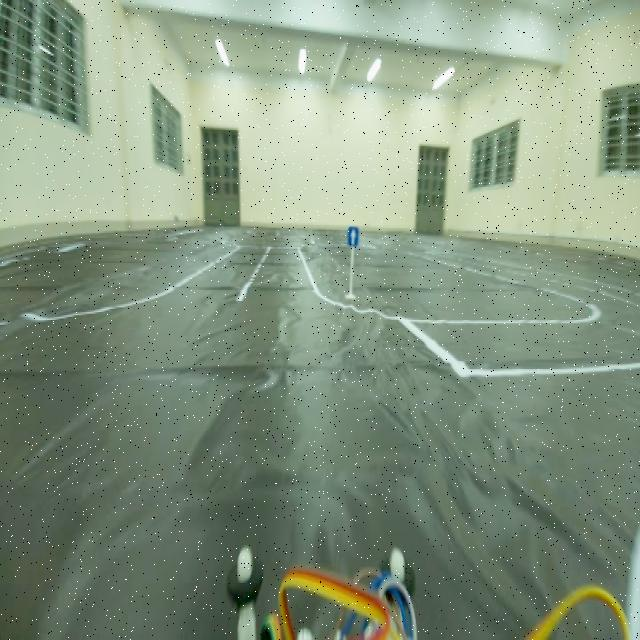onewayroad: (343, 221, 362, 253)
